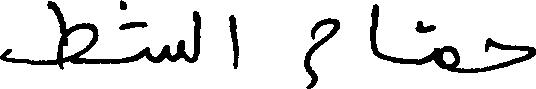X: (0, 0, 93, 74), (121, 0, 183, 67), (417, 16, 458, 77), (306, 13, 338, 88), (486, 33, 535, 75), (230, 10, 237, 73), (195, 0, 199, 88), (371, 0, 376, 60)
